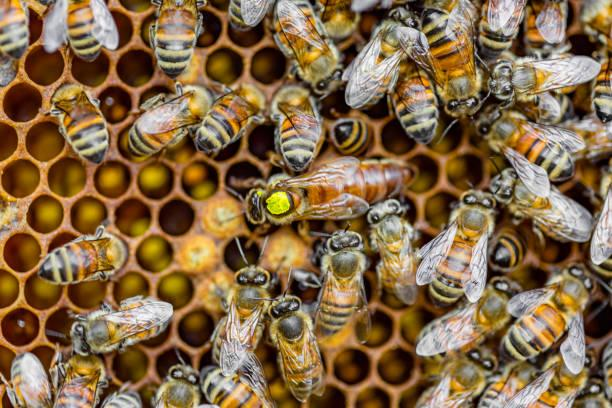Queen-Bee: (245, 156, 415, 224)
worker-bee: (500, 264, 592, 372), (475, 106, 584, 196), (400, 0, 483, 117), (416, 189, 495, 306), (416, 277, 521, 358), (489, 167, 592, 241), (342, 7, 414, 108), (272, 0, 342, 95), (211, 265, 272, 374), (314, 229, 370, 346), (70, 296, 172, 355), (268, 292, 323, 401), (366, 198, 417, 304), (488, 55, 600, 102), (415, 348, 497, 407), (388, 60, 438, 143)
